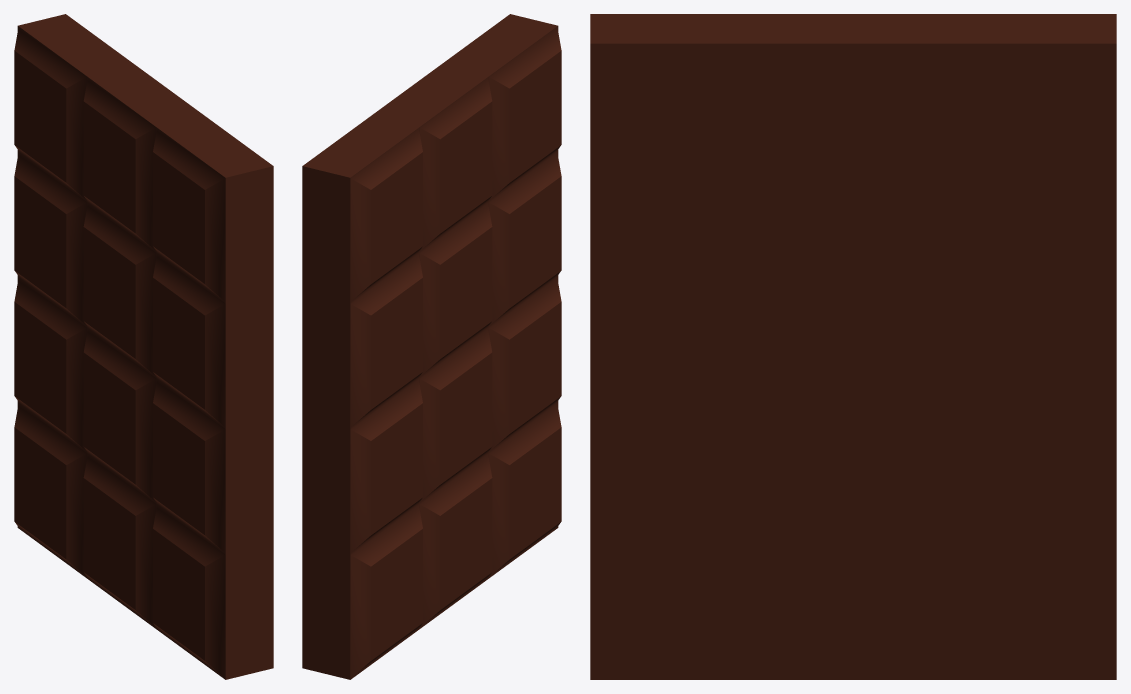
File: Chocolate_whole.fbx
3 renders of one model, left to right at view 1: azimuth 30°, elevation 25°; view 2: azimuth 150°, elevation 25°; view 3: azimuth 270°, elevation 25°, orthographic. The views are drawn at different scales.
Parts seen in each view (by area): view 1: Chocolate_whole; view 2: Chocolate_whole; view 3: Chocolate_whole.
Part boxes in pixels (x1,y1,x2,y2): Chocolate_whole: (14,14,273,679); Chocolate_whole: (302,14,561,679); Chocolate_whole: (590,14,1116,679).
Size of the model in its own units: 100 by 800 by 600.
